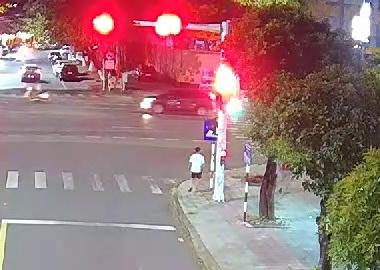red_light: (215, 60, 241, 115), (154, 12, 184, 40), (90, 12, 115, 35)
stop_line: (2, 215, 189, 233)
